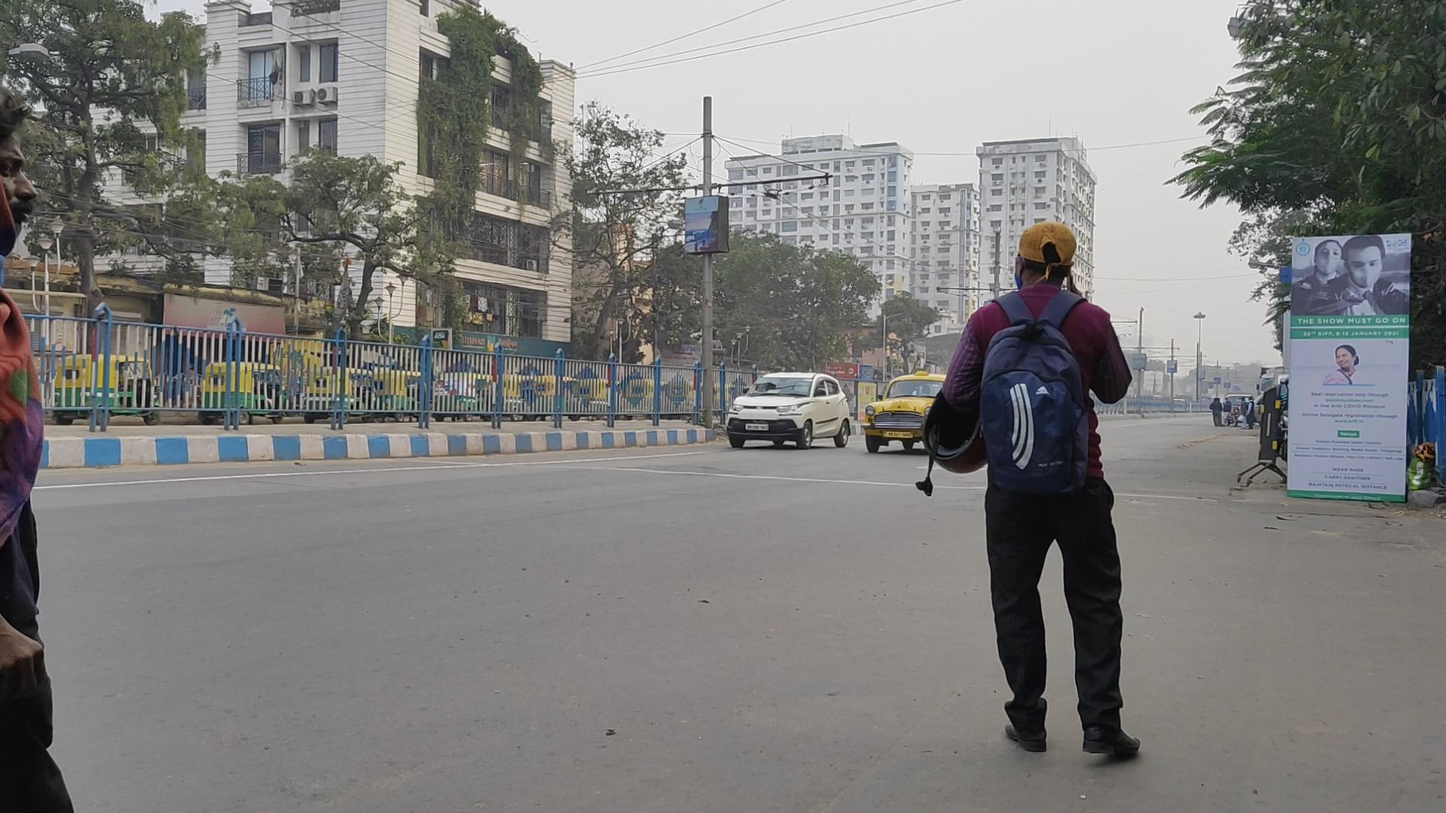car: (725, 368, 850, 452), (862, 368, 947, 452)
